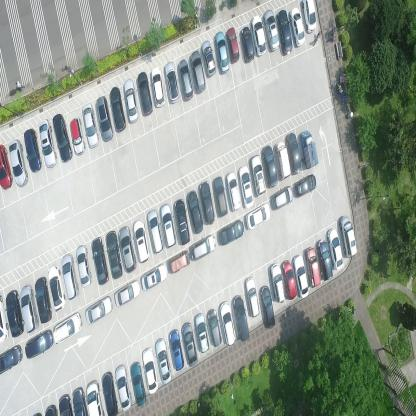car: (52, 310, 82, 344), (37, 117, 57, 167), (47, 264, 67, 313), (53, 111, 72, 162), (8, 139, 28, 187), (90, 236, 109, 286), (105, 229, 123, 281), (19, 285, 38, 334), (141, 345, 159, 395), (24, 329, 53, 360), (60, 252, 78, 301), (114, 363, 132, 412), (84, 294, 112, 325), (118, 224, 136, 272), (6, 288, 24, 336), (339, 213, 358, 258), (154, 338, 172, 385), (34, 275, 51, 324), (326, 226, 344, 272), (96, 94, 113, 142), (262, 7, 280, 52), (82, 102, 99, 149), (24, 128, 42, 172), (186, 190, 204, 234), (101, 372, 119, 416), (233, 292, 249, 341), (218, 218, 245, 247), (276, 9, 293, 55), (132, 218, 149, 264), (114, 278, 140, 308), (75, 244, 92, 289), (292, 253, 309, 298), (181, 322, 198, 367), (137, 70, 153, 117), (110, 85, 126, 132), (198, 178, 214, 225), (174, 197, 190, 244), (220, 300, 236, 347), (316, 237, 333, 281), (123, 78, 139, 124), (160, 202, 176, 248), (226, 171, 243, 214), (141, 262, 167, 290), (245, 203, 270, 232), (164, 59, 180, 104), (300, 130, 318, 170), (238, 164, 254, 209), (147, 209, 163, 254), (130, 361, 146, 406), (85, 379, 105, 415), (289, 5, 306, 47), (262, 144, 278, 188), (306, 244, 322, 288), (260, 284, 276, 328), (244, 275, 260, 319), (190, 234, 216, 261), (274, 140, 291, 181), (250, 154, 267, 195), (0, 343, 23, 373), (286, 131, 302, 174), (212, 175, 228, 218), (270, 262, 286, 304), (169, 328, 185, 370), (251, 13, 266, 56), (214, 31, 229, 74), (178, 59, 193, 102), (69, 116, 85, 156), (194, 314, 210, 354), (190, 50, 205, 92), (150, 66, 165, 107), (282, 258, 297, 299), (0, 144, 13, 191), (271, 184, 293, 211), (168, 248, 190, 275), (201, 40, 216, 78), (301, 0, 317, 35), (207, 308, 221, 348), (295, 174, 318, 198), (226, 26, 240, 64), (71, 386, 88, 416), (241, 26, 254, 63), (0, 295, 8, 343), (58, 394, 74, 415)
